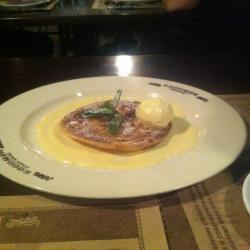icecream: (134, 97, 178, 136)
